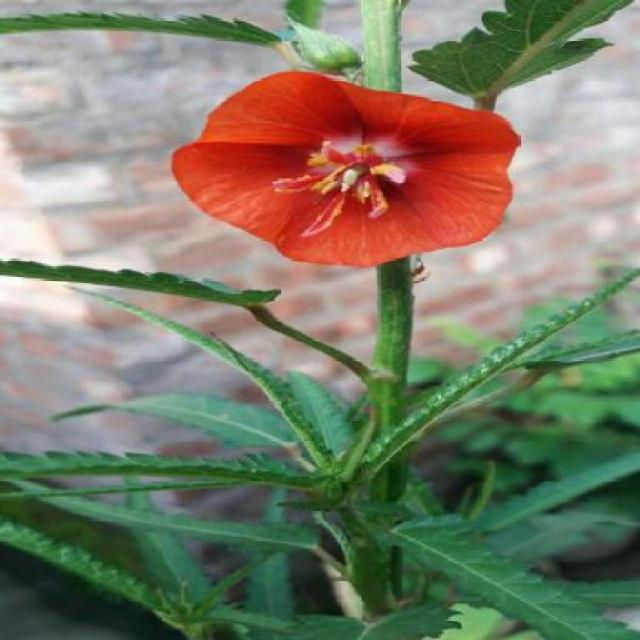flower: (175, 68, 523, 272)
